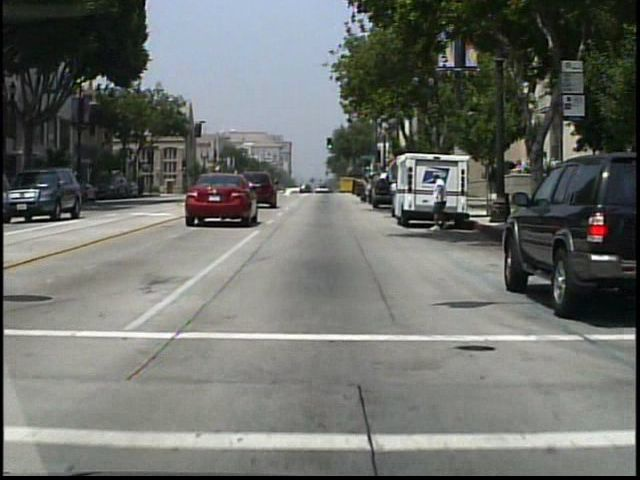person: (425, 172, 456, 234), (355, 173, 377, 209)
